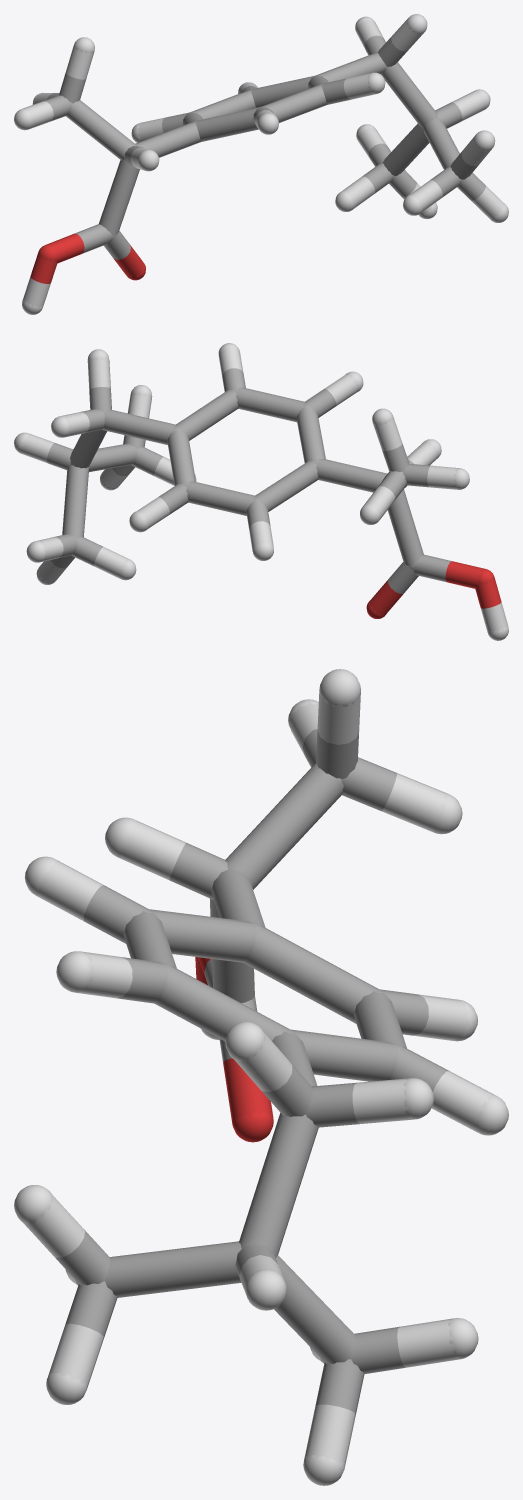
Rendered from ibuprofen-sticks.glb.
The picture shows the model from 3 angles, top to bottom: view 1: azimuth 30°, elevation 25°; view 2: azimuth 150°, elevation 25°; view 3: azimuth 270°, elevation 25°; orthographic projection. The views are drawn at different scales.
Visible parts, largest first — view 1: ibuprofen-sticks; view 2: ibuprofen-sticks; view 3: ibuprofen-sticks.
Part boxes in pixels (x1,y1,x2,y2): ibuprofen-sticks: (14, 14, 508, 314); ibuprofen-sticks: (14, 343, 508, 640); ibuprofen-sticks: (14, 669, 508, 1485).
Size of the model in its own units: 10.14 by 5.26 by 4.75.
